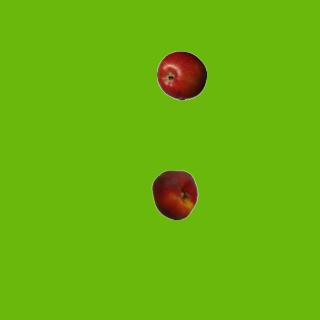Apple Braeburn: (156, 50, 206, 100)
Nectarine Flat: (149, 169, 199, 219)
